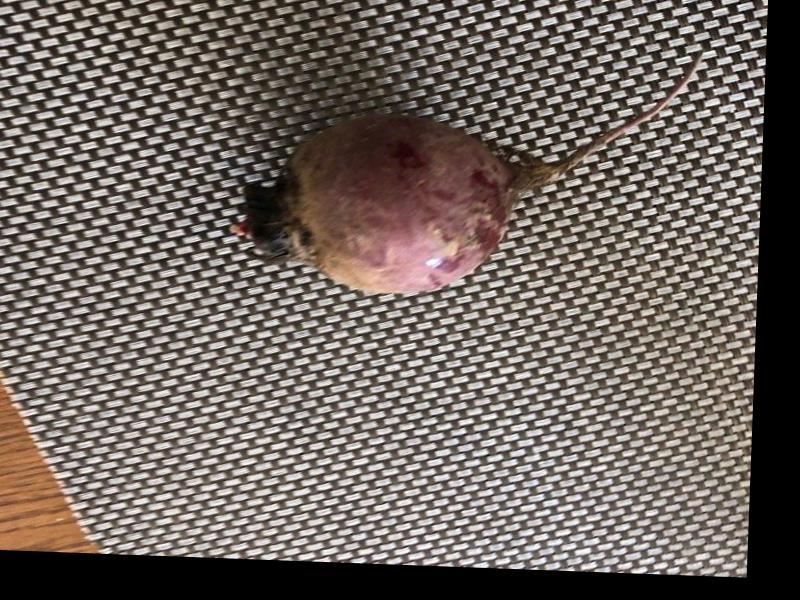Beet: (227, 34, 705, 303)
